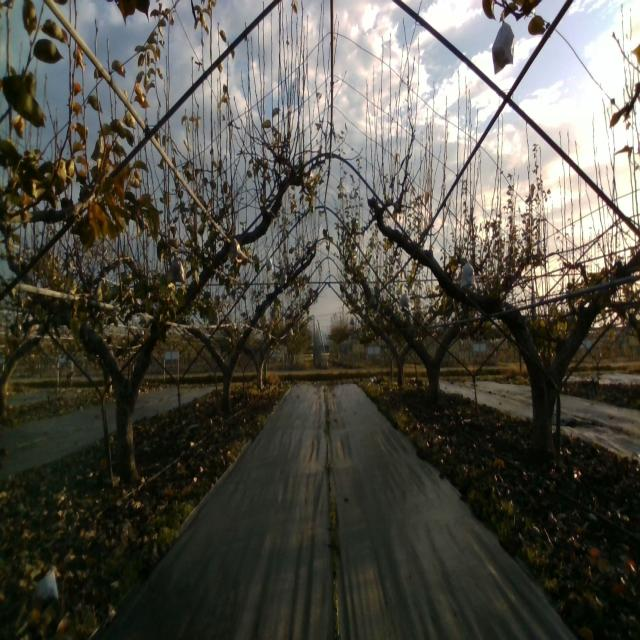pearbags: (492, 11, 514, 74), (166, 256, 186, 283), (460, 260, 476, 289), (228, 236, 241, 263)
